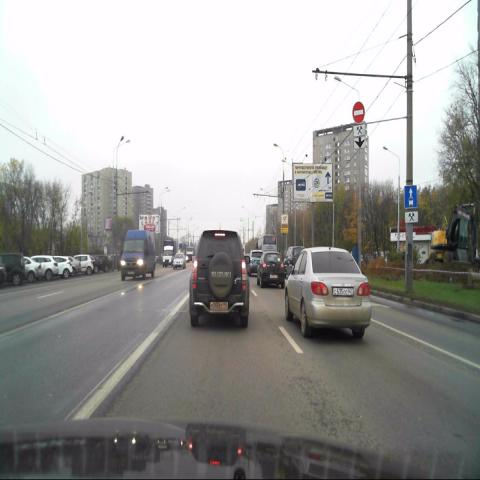5_14: (404, 185, 417, 209)
